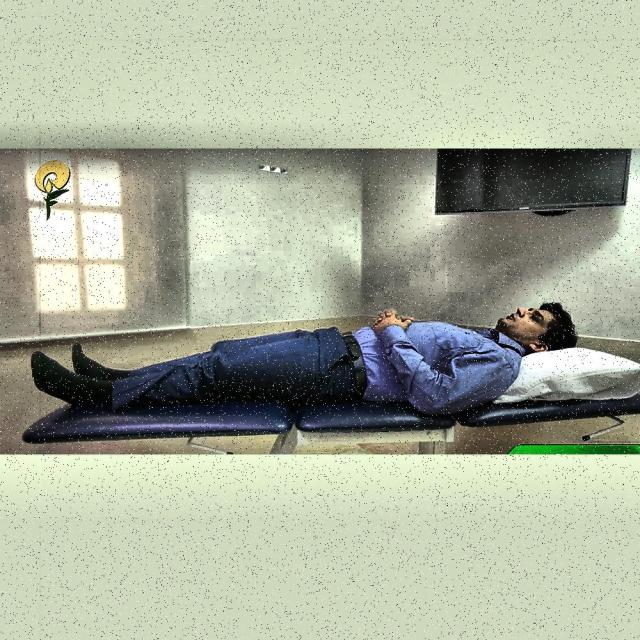Supine: (31, 304, 576, 412)
